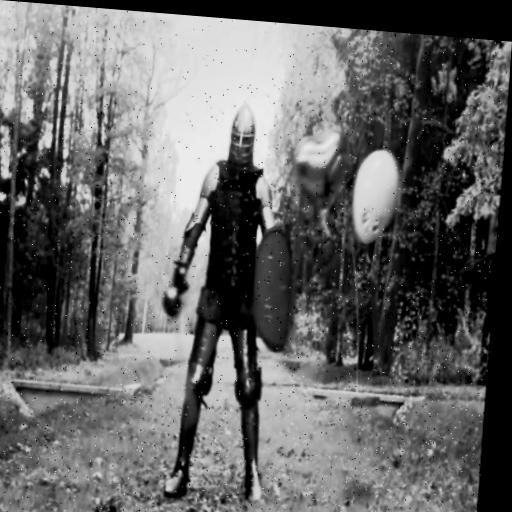balloon: (291, 129, 346, 220), (352, 151, 404, 247)
